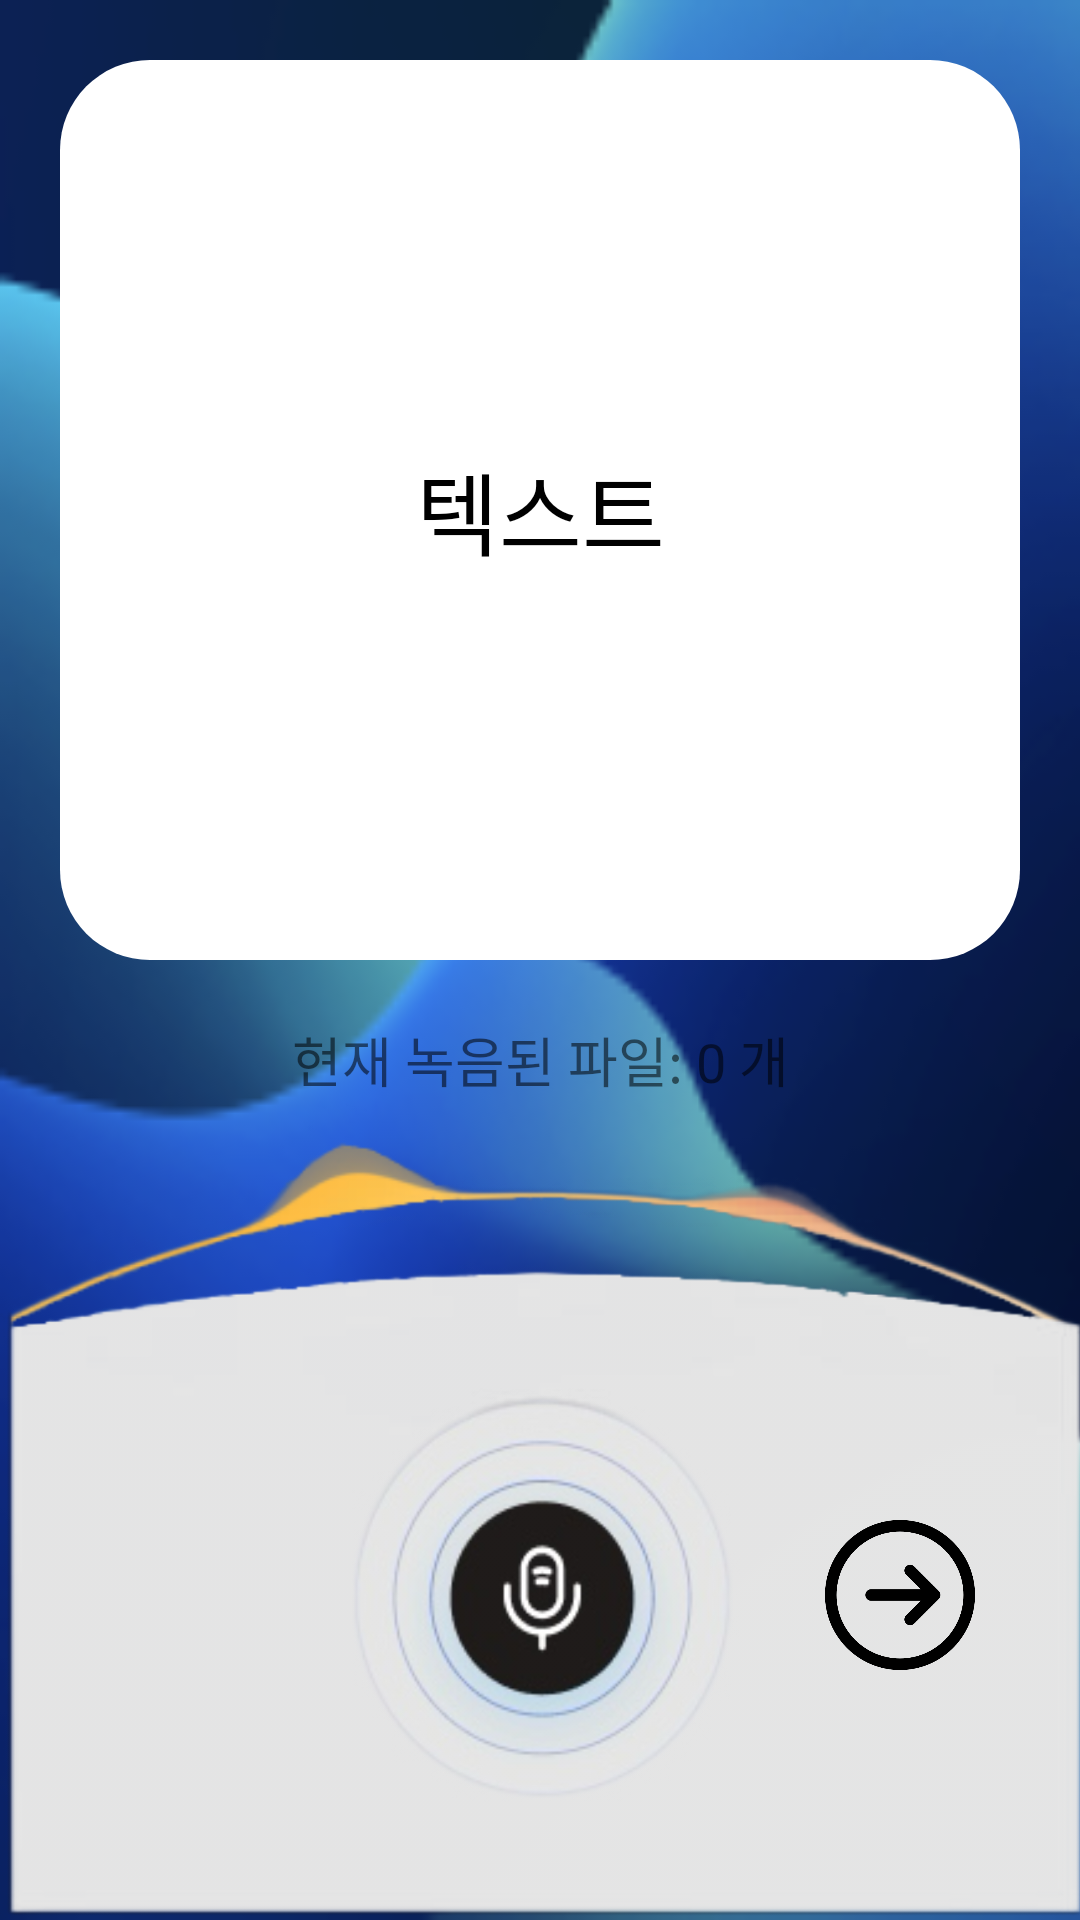

Where to tap for icons on this 1080*1920 app screen, as [x,y]:
recording: [543,1597]
right: [900,1595]
